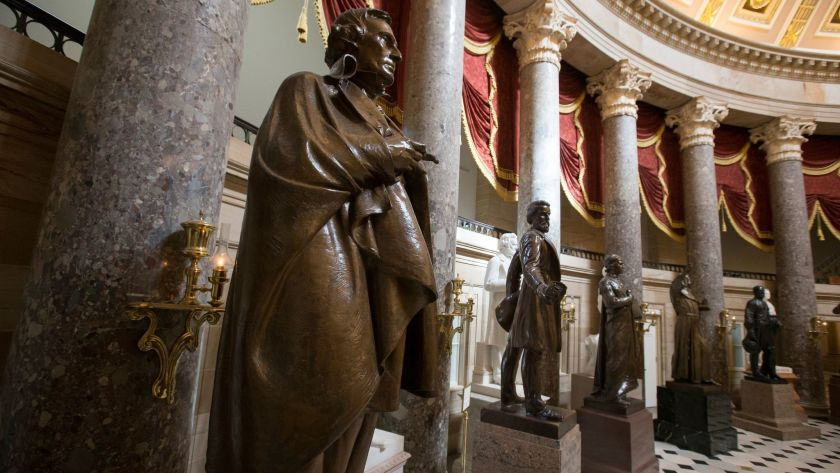person-like: (199, 6, 449, 471), (491, 198, 570, 423), (591, 252, 643, 405), (481, 228, 517, 383), (669, 269, 715, 384), (741, 283, 784, 381)
